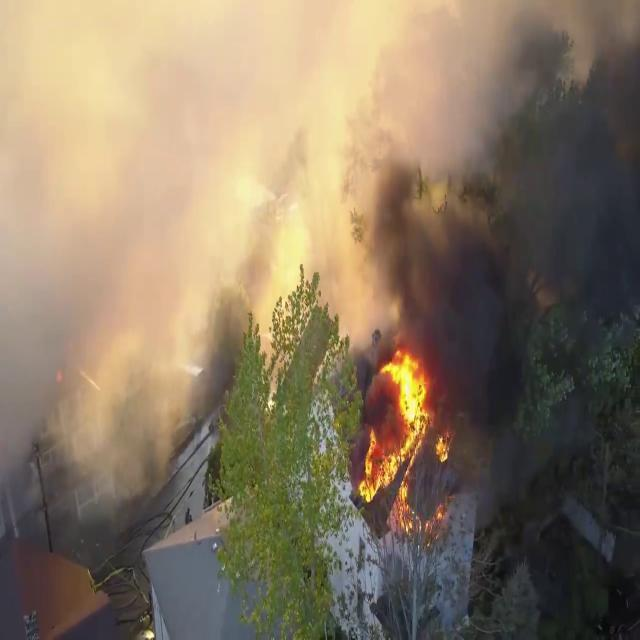Fire: (360, 344, 452, 526)
Smoke: (1, 0, 630, 359), (360, 0, 640, 402)
